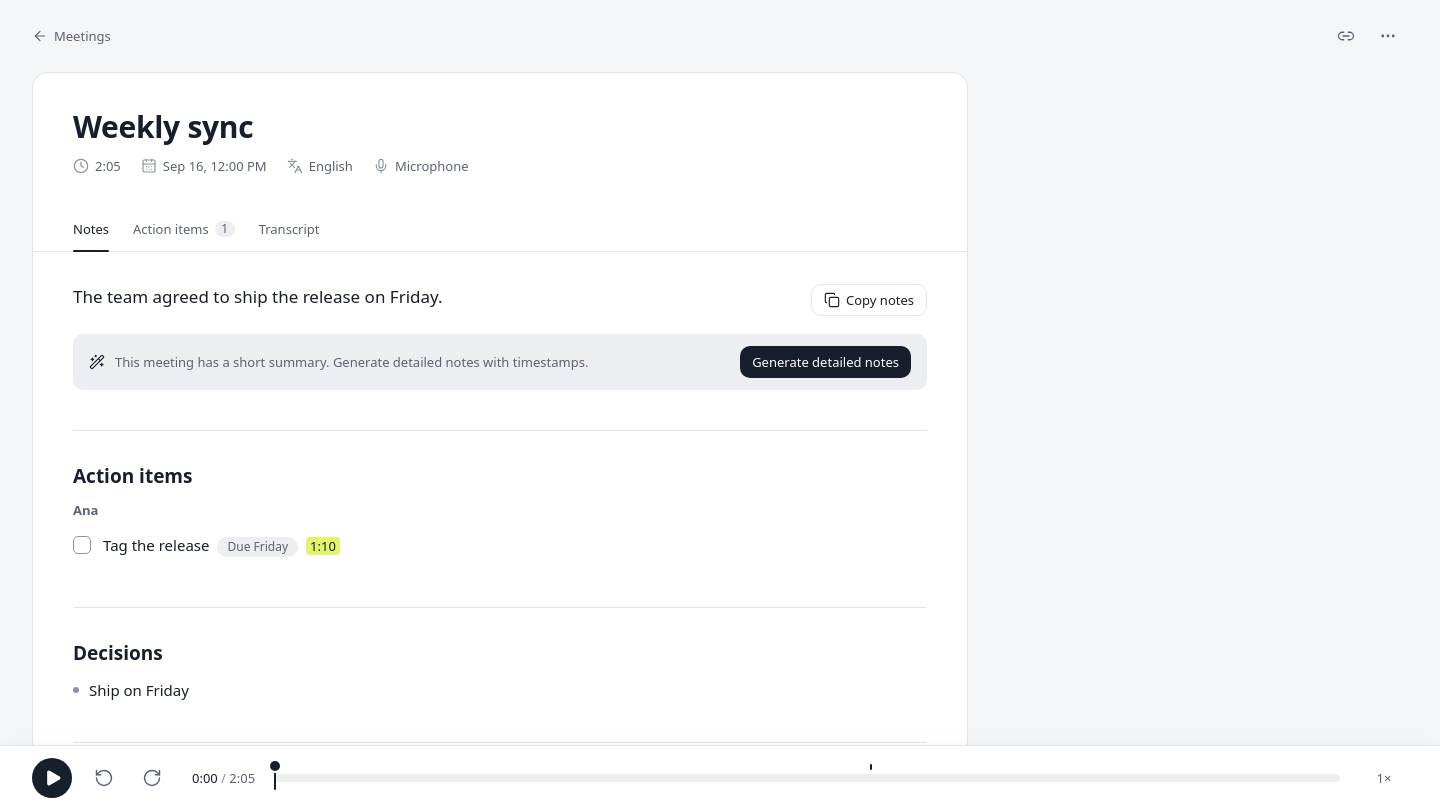
it: MeetingPage › generates detailed notes for a legacy summary
This screenshot has width=1440, height=810.
Click the button "Generate detailed notes" at {"x": 826, "y": 362}, box [740,346,911,378]
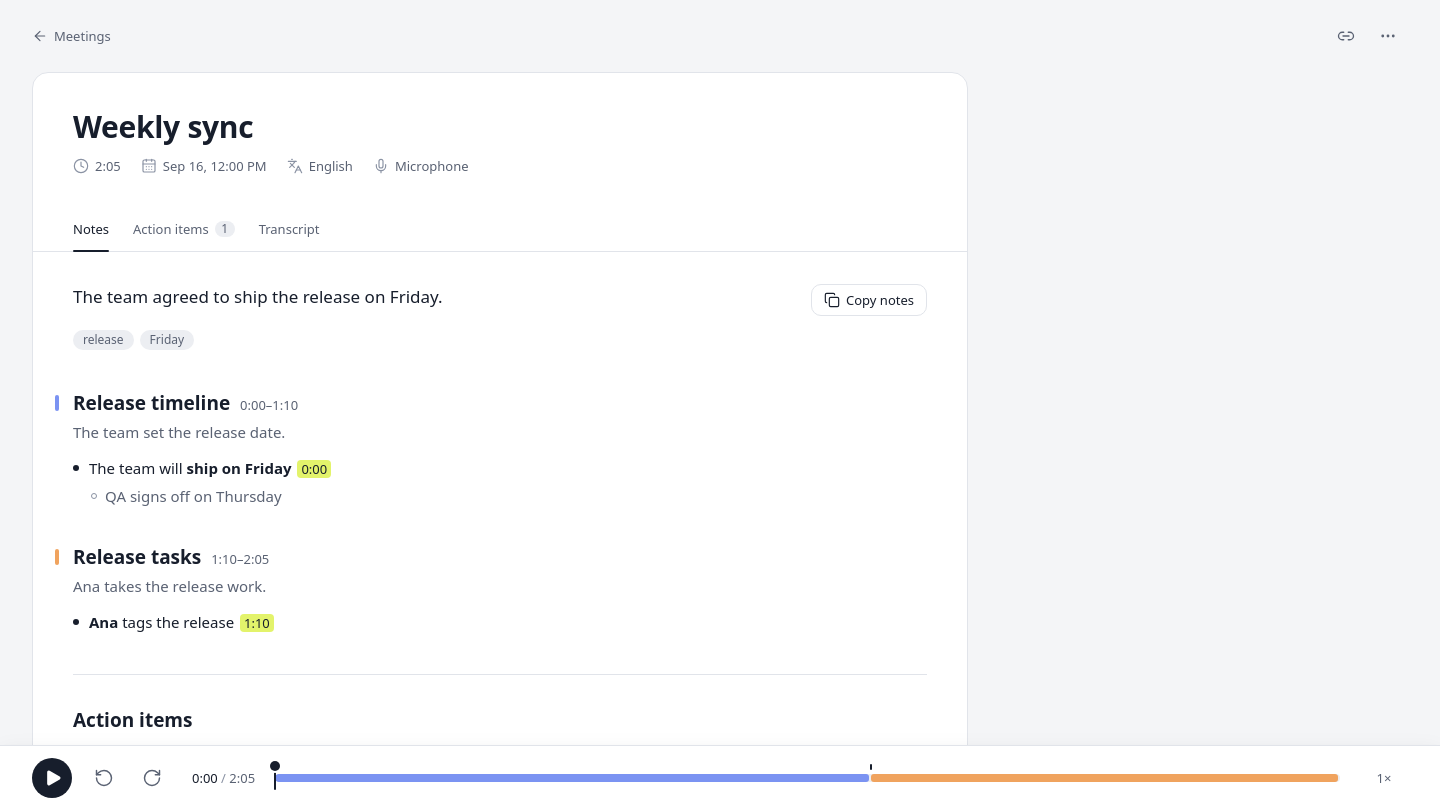
Now the element "Release timeline" is shown, box [55,390,331,506]
Now the button "Generate detailed notes" is gone
